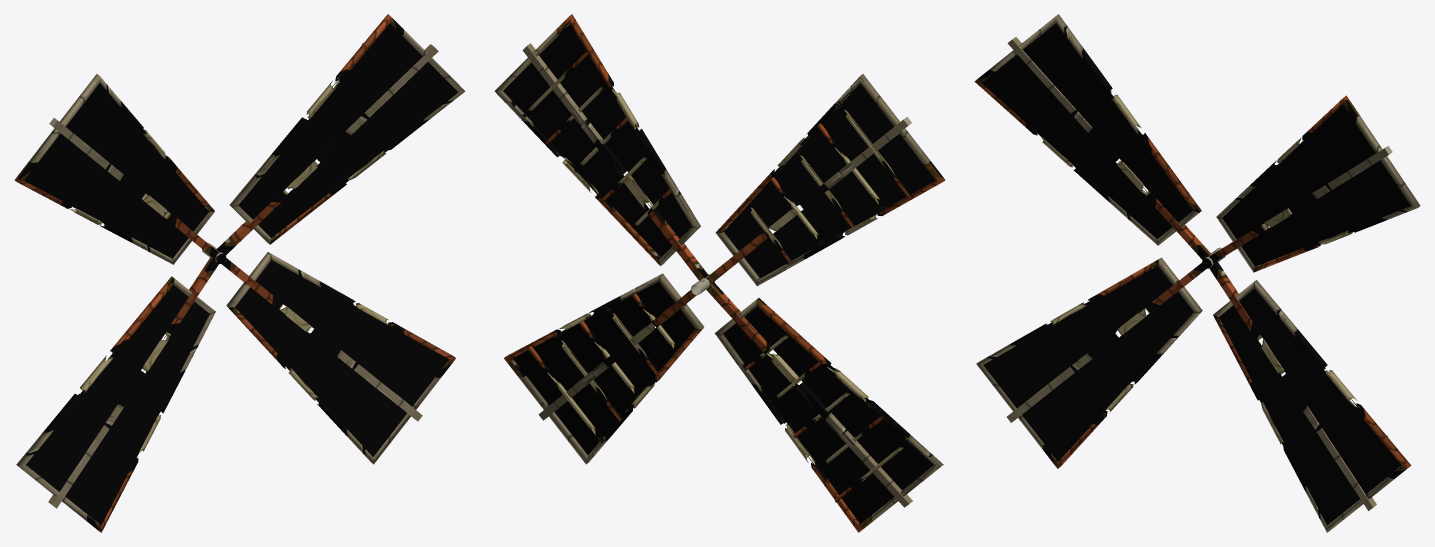
Rendered from Mill_wings_mobile.FBX.
3 views of the same model, side by side, from view 1: azimuth 30°, elevation 25°; view 2: azimuth 150°, elevation 25°; view 3: azimuth 330°, elevation 25° (orthographic).
Visible parts, largest first — view 1: Mill_wings_mobile; view 2: Mill_wings_mobile; view 3: Mill_wings_mobile.
Boxes of the visible parts, <box> form: Mill_wings_mobile: <box>14,14,465,532</box>; Mill_wings_mobile: <box>494,14,945,532</box>; Mill_wings_mobile: <box>974,14,1420,532</box>.
Size of the model in its own units: 8.89 by 8.67 by 1.07.
